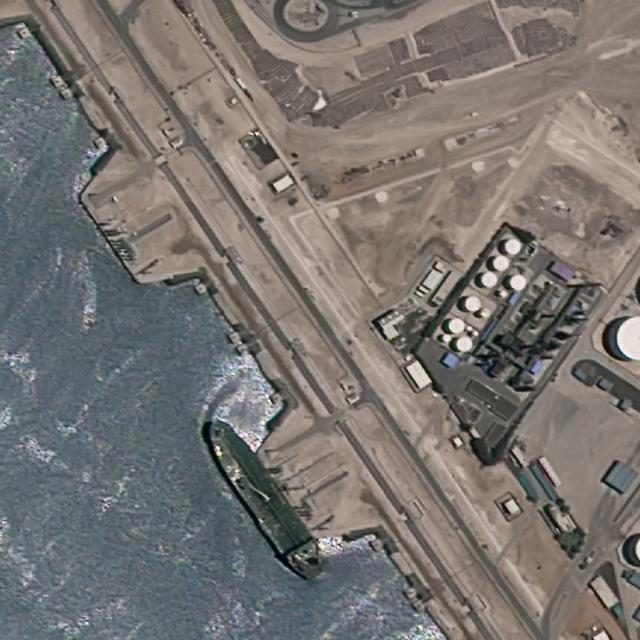Cargo: (192, 407, 335, 588)
